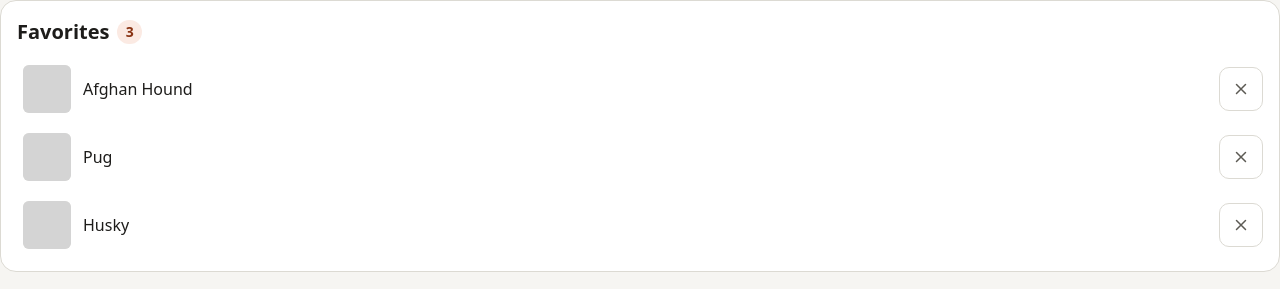
FavoritesPanel › removes a favorite and moves focus to the next one
Click the button named "Remove Pug from favorites" at (1241, 157), box [1219, 135, 1263, 179]
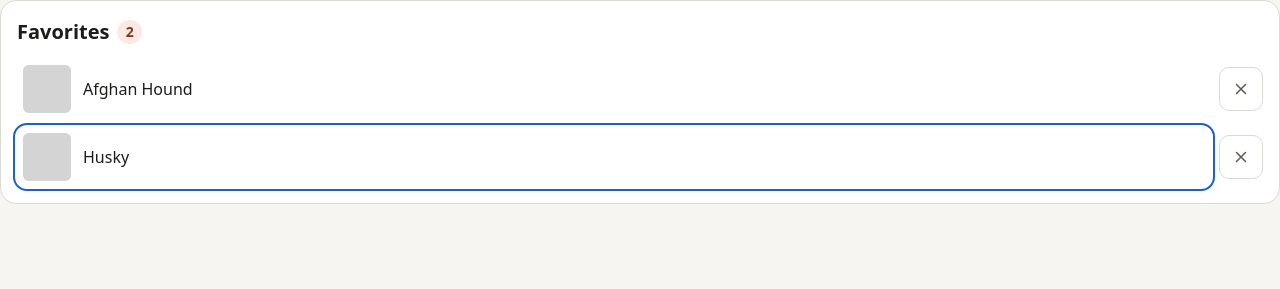
Expected: the button "Pug" is gone
Expected: the text with test id "favorites-count" reads "2", [126, 22, 134, 41]
